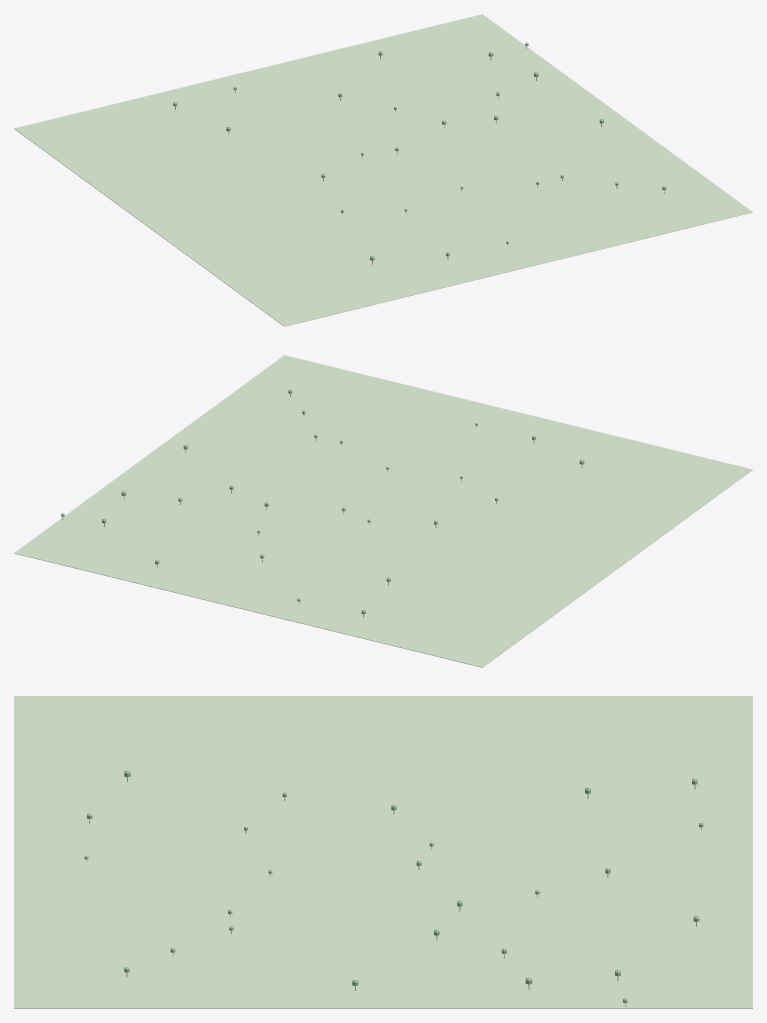
File: chunk_0_3_low.glb
3 renders of one model, top to bottom at view 1: azimuth 30°, elevation 25°; view 2: azimuth 150°, elevation 25°; view 3: azimuth 270°, elevation 25°, orthographic. The views are drawn at different scales.
Parts seen in each view (by area): view 1: city_grass; view 2: city_grass; view 3: city_grass, city_foliage_dark.
Part boxes in pixels (left/top/right/bottom): city_grass: left=14, top=14, right=752, bottom=326; city_grass: left=14, top=355, right=752, bottom=667; city_grass: left=14, top=696, right=752, bottom=1008; city_foliage_dark: left=84, top=770, right=703, bottom=1003.
Bounding box in the file's own units: 512 × 9.62 × 512.
